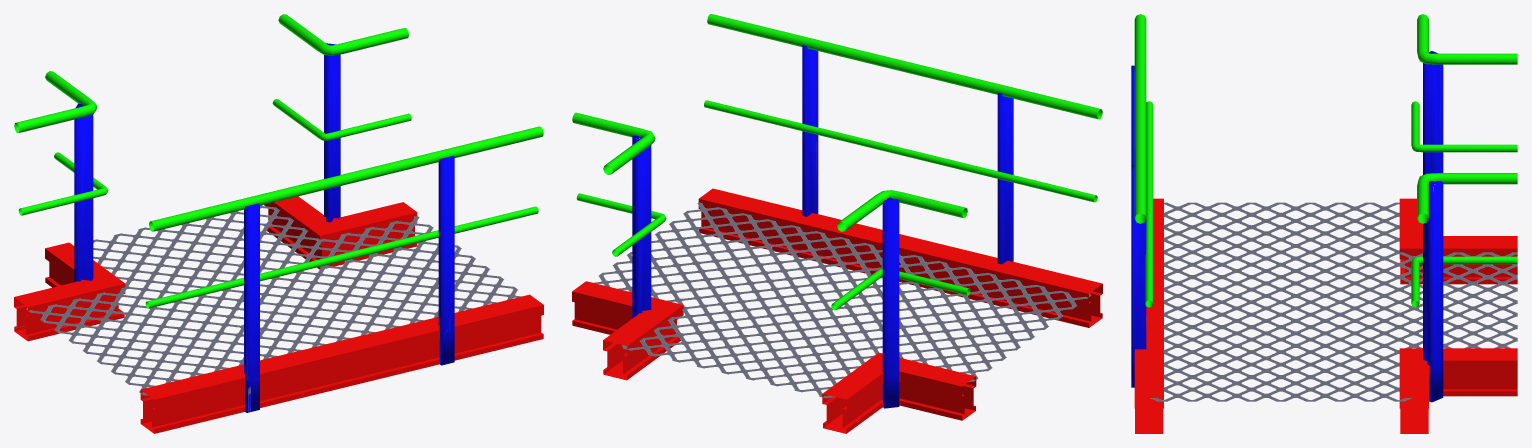
Rendered from PlataformaT.fbx.
3 views of the same model, side by side, from view 1: azimuth 30°, elevation 25°; view 2: azimuth 150°, elevation 25°; view 3: azimuth 270°, elevation 25° (orthographic). The views are drawn at different scales.
Parts seen in each view (by area): view 1: PlataformaT; view 2: PlataformaT; view 3: PlataformaT.
Boxes of the visible parts, x1,y1,x2,y2 form: PlataformaT: (14,14,543,433); PlataformaT: (572,14,1102,433); PlataformaT: (1131,14,1517,433).
Size of the model in its own units: 200 by 103 by 164.
